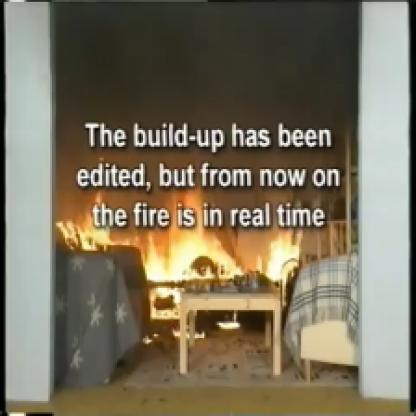fire: (148, 195, 235, 292), (49, 196, 122, 256), (130, 267, 192, 331), (257, 221, 309, 285), (196, 314, 240, 338)
